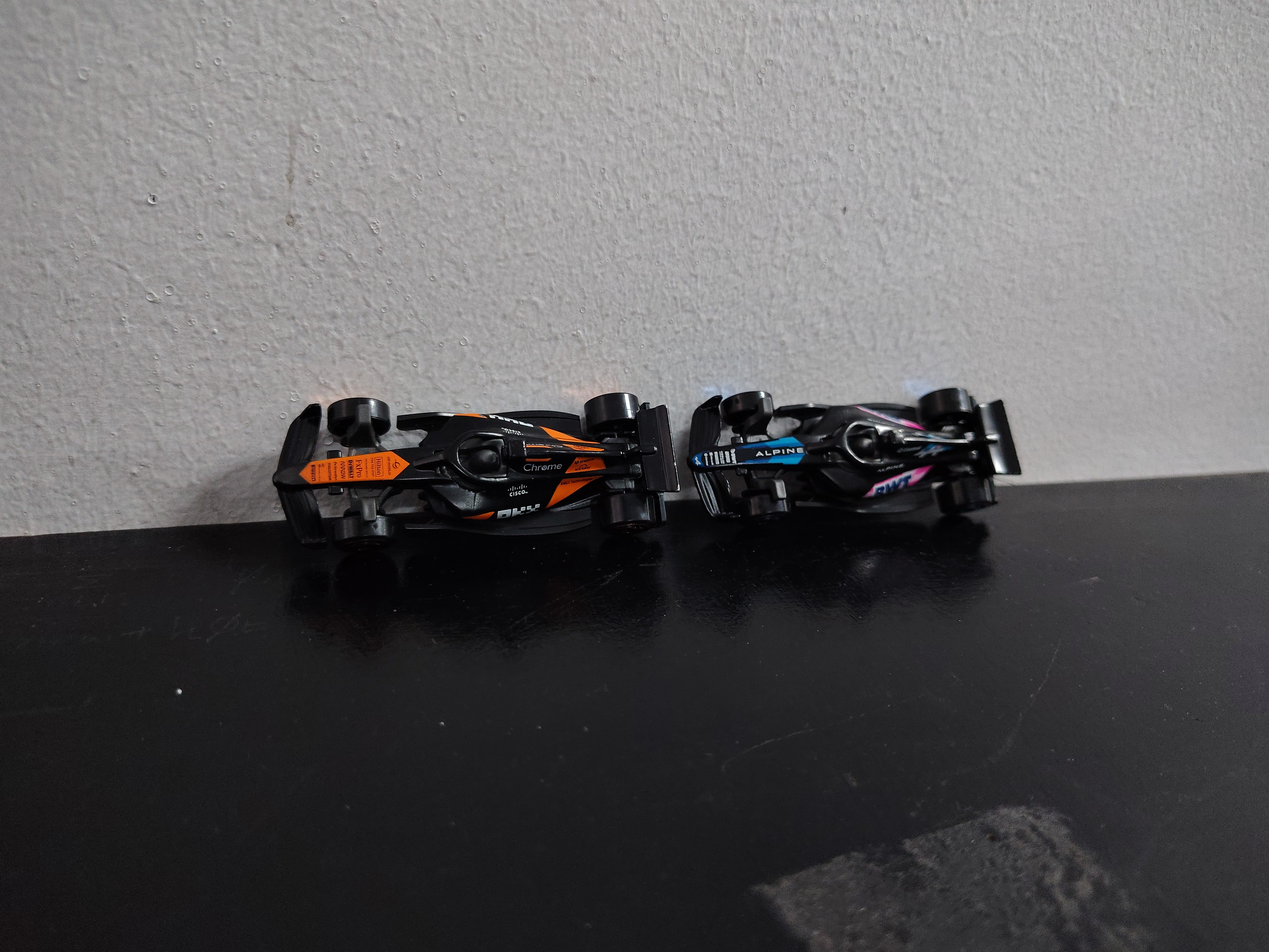Alpine A524: (683, 359, 1022, 533)
McLaren MCL40: (260, 353, 686, 562)
